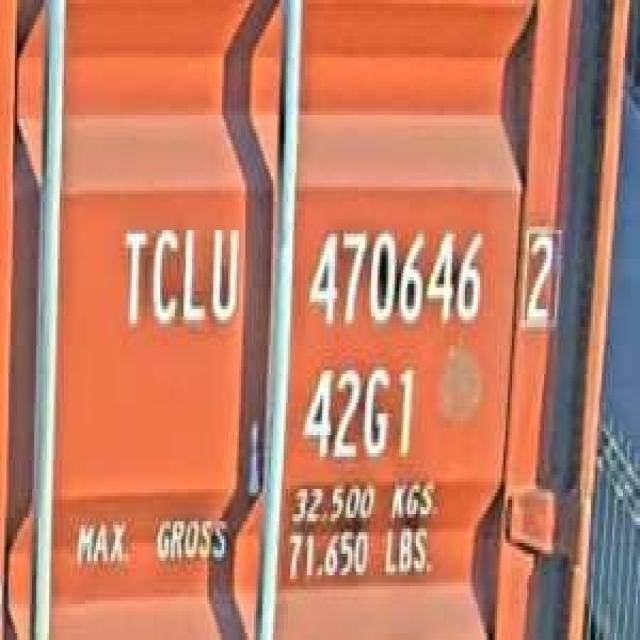dv: (516, 216, 563, 334)
owner: (115, 212, 243, 338)
serial: (301, 216, 488, 342)
size: (297, 356, 418, 467)
